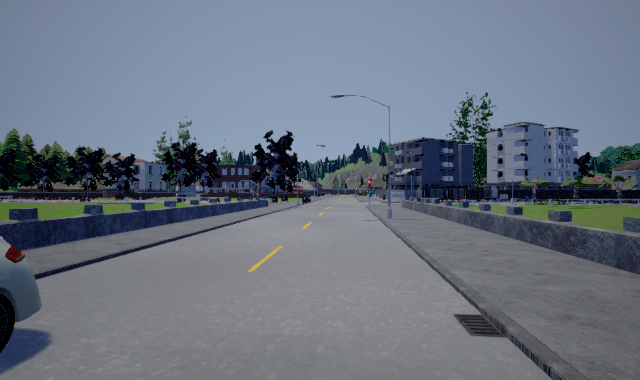vehicle: (0, 236, 42, 353)
